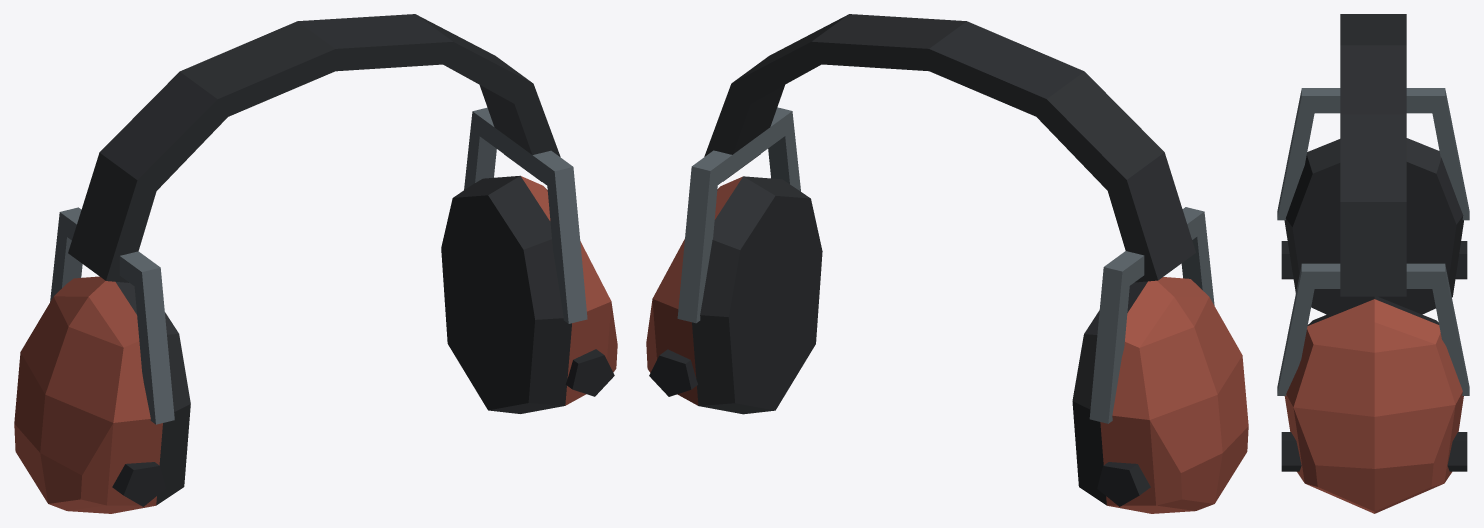
Rendered from SM_Chr_Attach_Earmuffs_01.fbx.
3 renders of one model, left to right at view 1: azimuth 30°, elevation 25°; view 2: azimuth 150°, elevation 25°; view 3: azimuth 270°, elevation 25°, orthographic. The views are drawn at different scales.
Parts seen in each view (by area): view 1: SM_Chr_Attach_Earmuffs_01; view 2: SM_Chr_Attach_Earmuffs_01; view 3: SM_Chr_Attach_Earmuffs_01.
Boxes of the visible parts, x1,y1,x2,y2 form: SM_Chr_Attach_Earmuffs_01: [14, 14, 617, 513]; SM_Chr_Attach_Earmuffs_01: [646, 14, 1248, 513]; SM_Chr_Attach_Earmuffs_01: [1277, 14, 1469, 513].
Size of the model in its own units: 33.35 by 24.82 by 11.57.
